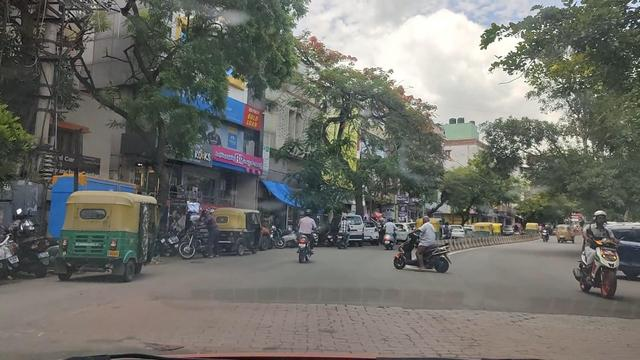LMV: (49, 183, 158, 284), (295, 207, 318, 266)
SpeedBump: (44, 290, 416, 360)
